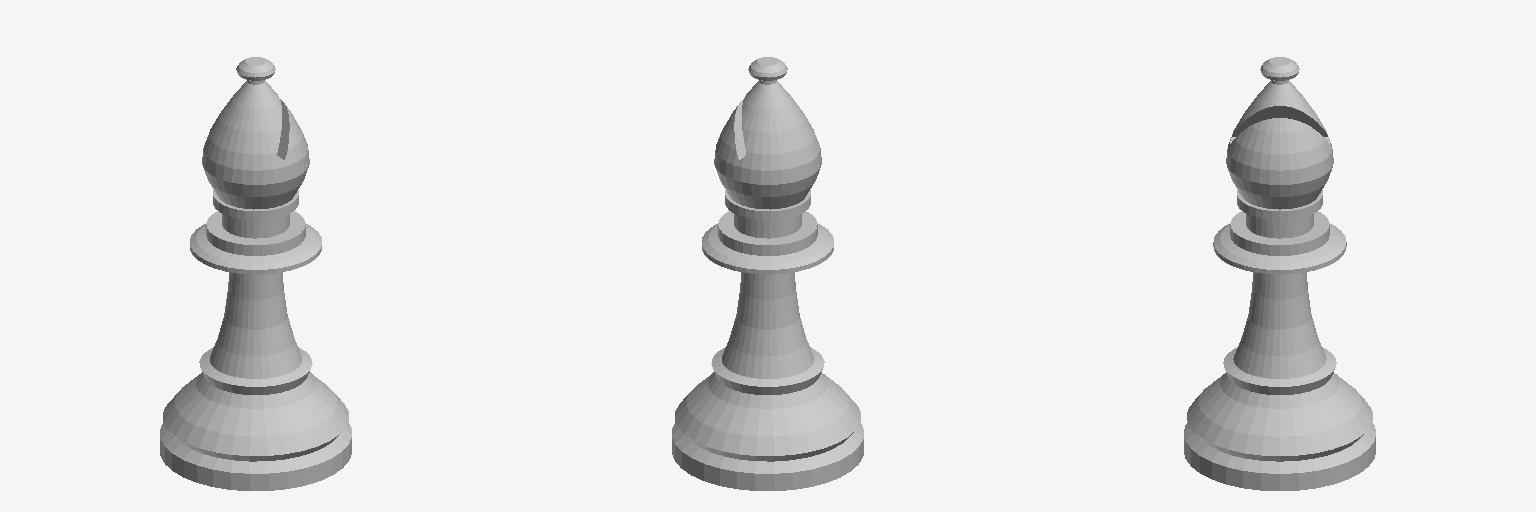
The model's file is bishop.obj.
3 views of the same model, side by side, from view 1: azimuth 30°, elevation 25°; view 2: azimuth 150°, elevation 25°; view 3: azimuth 270°, elevation 25° (orthographic).
Parts seen in each view (by area): view 1: bishop_Cylinder; view 2: bishop_Cylinder; view 3: bishop_Cylinder.
Part boxes in pixels (x1,y1,x2,y2): bishop_Cylinder: (160,57,351,490); bishop_Cylinder: (672,57,863,490); bishop_Cylinder: (1184,57,1375,490).
Bounding box in the file's own units: 2.5 × 5.57 × 2.5.